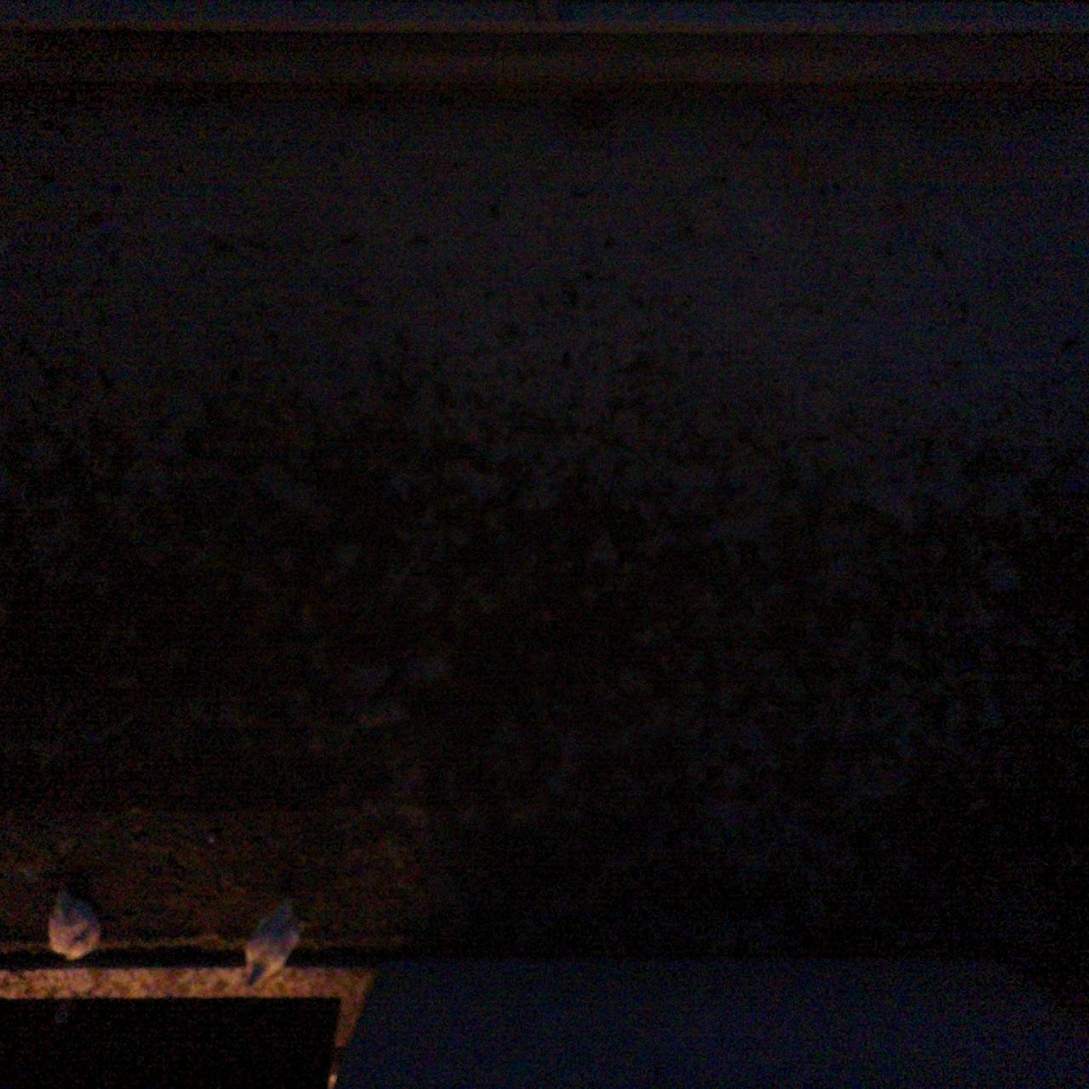chicken: (243, 897, 306, 987), (44, 890, 109, 961)
